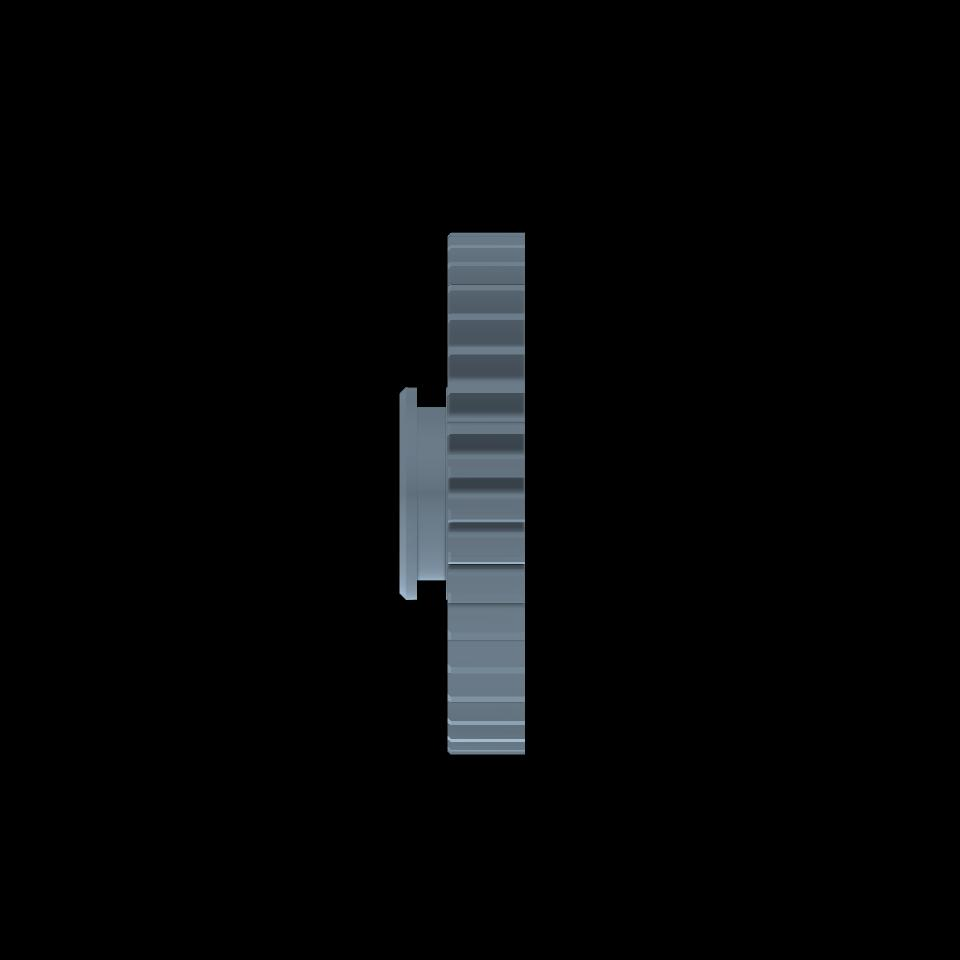Straight: (448, 230, 525, 754)
